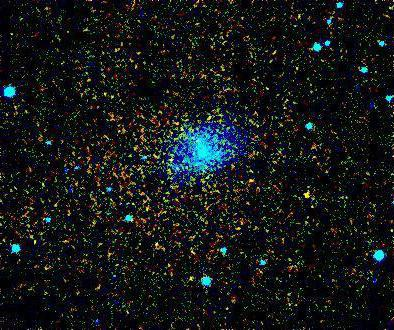star: (297, 179, 327, 209)
